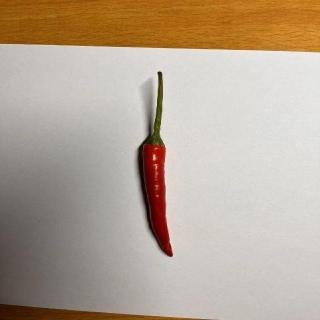Cabai Merah: (142, 72, 174, 258)
